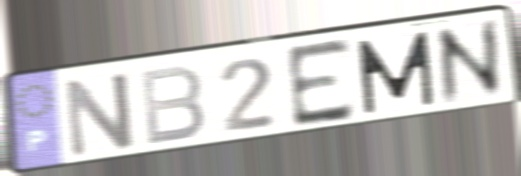2: (218, 55, 275, 134)
B: (137, 63, 208, 149)
E: (283, 35, 357, 132)
M: (353, 28, 438, 118)
N: (431, 16, 509, 109), (62, 69, 138, 162)
